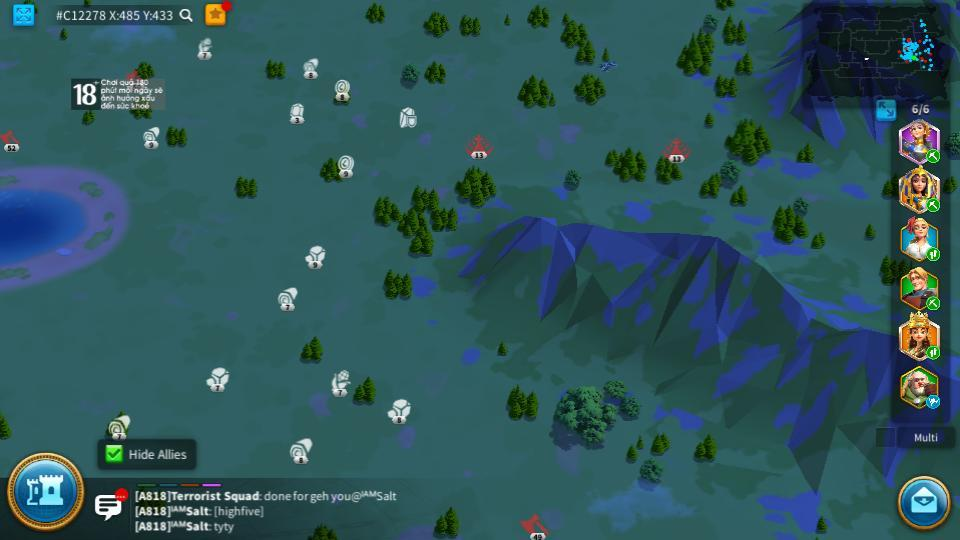gem-z-out: (287, 102, 305, 123)
march_idle: (925, 394, 942, 408)
march_marching: (925, 197, 941, 212), (925, 150, 942, 162), (925, 347, 941, 359), (925, 297, 942, 308), (925, 250, 942, 261)
